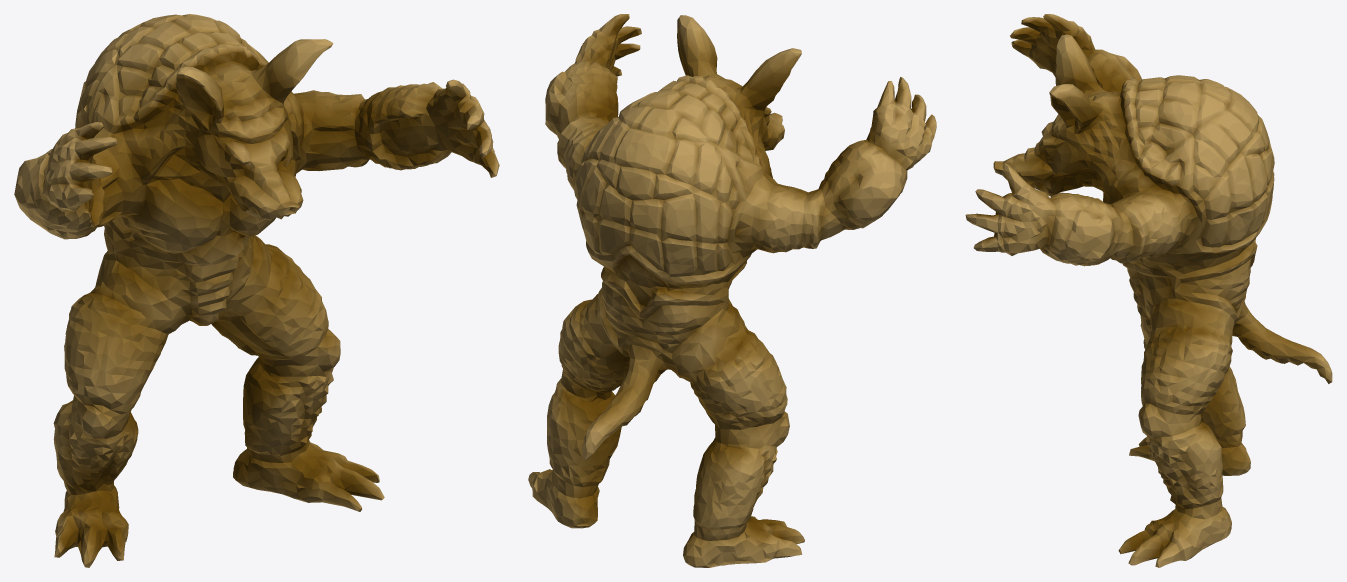
The model's file is armadillo12KC.obj.
3 views of the same model, side by side, from view 1: azimuth 30°, elevation 25°; view 2: azimuth 150°, elevation 25°; view 3: azimuth 270°, elevation 25° (orthographic). The views are drawn at different scales.
Size of the model in its own units: 127 by 151 by 115.
